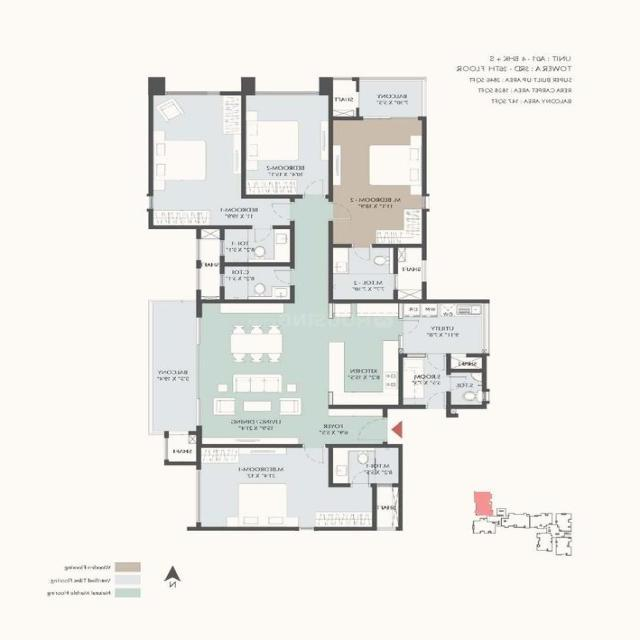Balcony-Sitout: (148, 298, 198, 435), (354, 76, 428, 116)
Bedroom: (148, 92, 297, 229), (199, 444, 377, 529), (328, 116, 426, 250), (242, 91, 335, 199), (397, 353, 450, 410)
Bedroom with Toilet: (328, 115, 428, 306), (198, 444, 405, 532)
Dining: (222, 321, 293, 365)
Enterance-Foyer: (326, 404, 389, 449)
Kitchen: (330, 299, 397, 411)
Living: (197, 373, 328, 447)
Toilet: (331, 244, 400, 300), (326, 446, 404, 486), (221, 224, 297, 263), (220, 263, 296, 299), (445, 370, 489, 408)
Utility: (396, 299, 487, 357)
